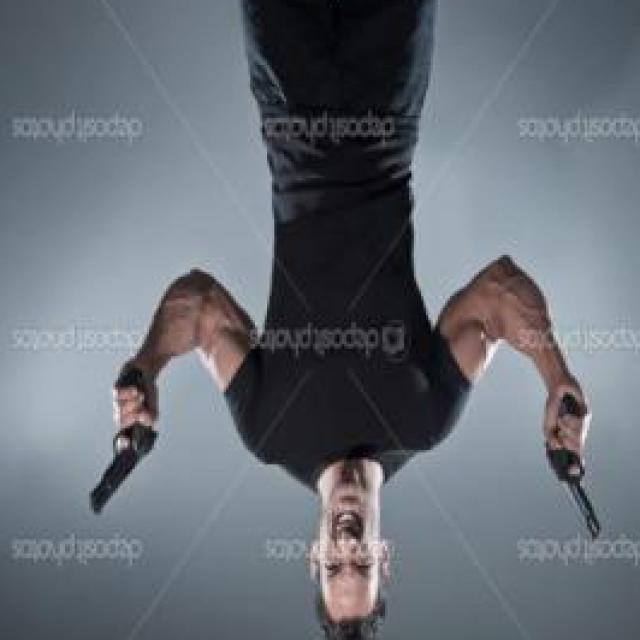pistol: (85, 373, 163, 536), (534, 366, 602, 539)
